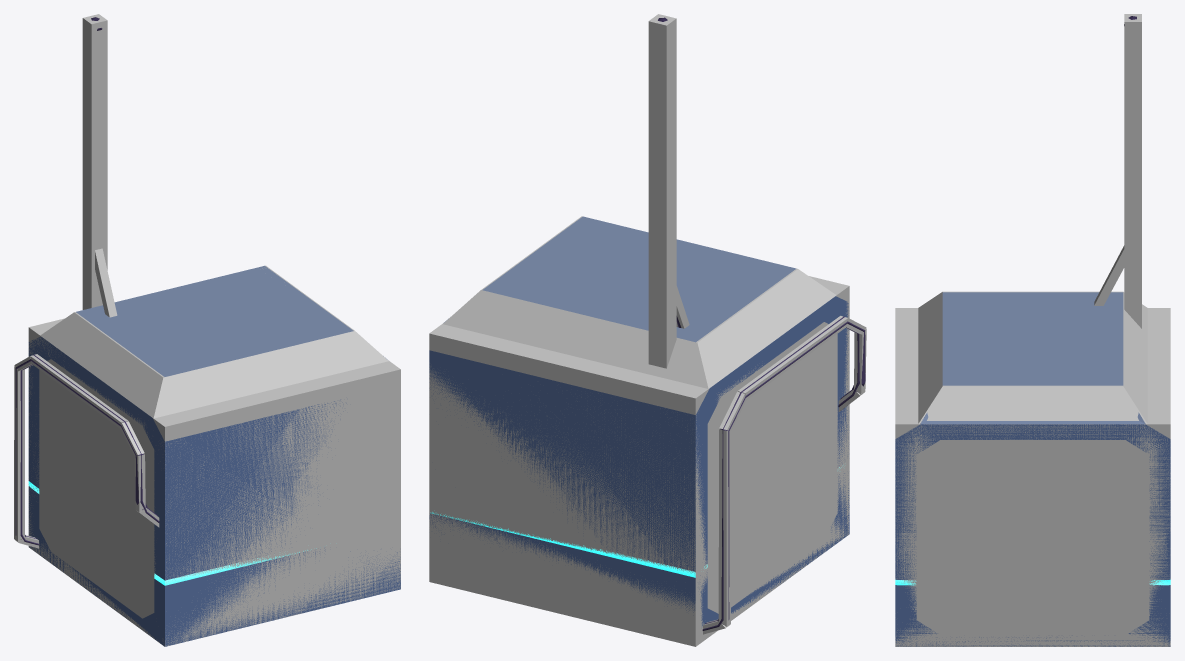
The model's file is SM_Building_04.fbx.
The picture shows the model from 3 angles, left to right: view 1: azimuth 30°, elevation 25°; view 2: azimuth 150°, elevation 25°; view 3: azimuth 270°, elevation 25°; orthographic projection. The views are drawn at different scales.
Visible parts, largest first — view 1: SM_Building_04_ConvexHulls, SM_Building_04; view 2: SM_Building_04_ConvexHulls, SM_Building_04; view 3: SM_Building_04_ConvexHulls, SM_Building_04.
Boxes of the visible parts, <box> form: SM_Building_04_ConvexHulls: <box>14,14,400,646</box>; SM_Building_04: <box>15,17,400,646</box>; SM_Building_04_ConvexHulls: <box>429,14,866,646</box>; SM_Building_04: <box>429,17,865,630</box>; SM_Building_04_ConvexHulls: <box>895,14,1170,646</box>; SM_Building_04: <box>895,16,1170,646</box>.
Bounding box in the file's own units: 436 × 400 × 861.
2 materials, 1 textured.
